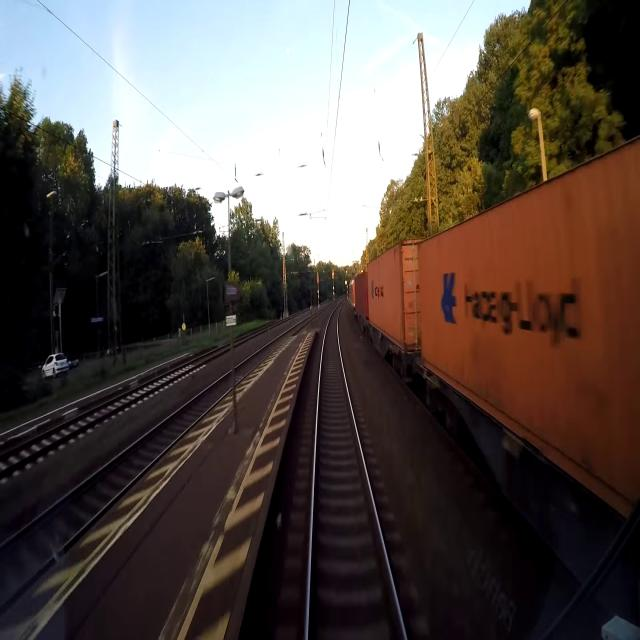rail-track: (0, 372, 232, 603), (309, 305, 403, 639), (0, 344, 231, 473), (234, 327, 297, 380)
